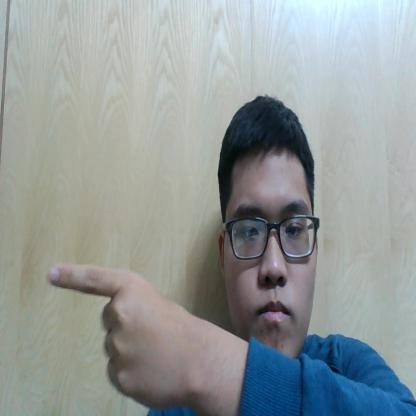right: (46, 248, 212, 414)
